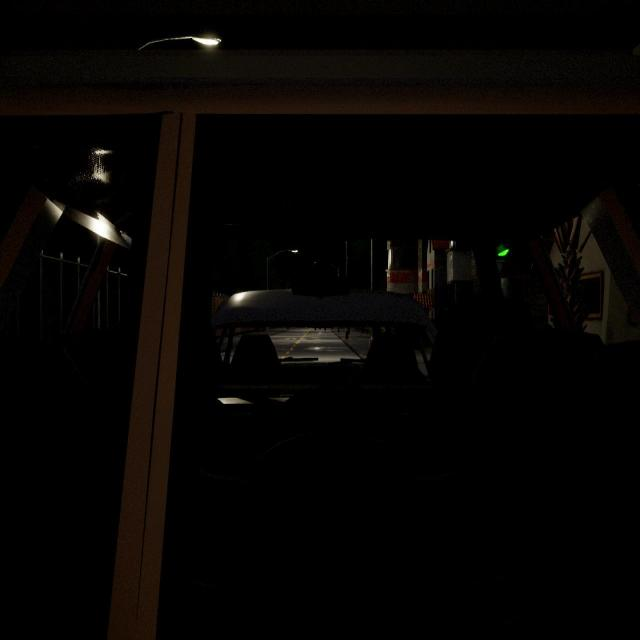Vehicle: (1, 41, 637, 640), (212, 291, 441, 414)
traffic_light: (492, 230, 513, 278)
